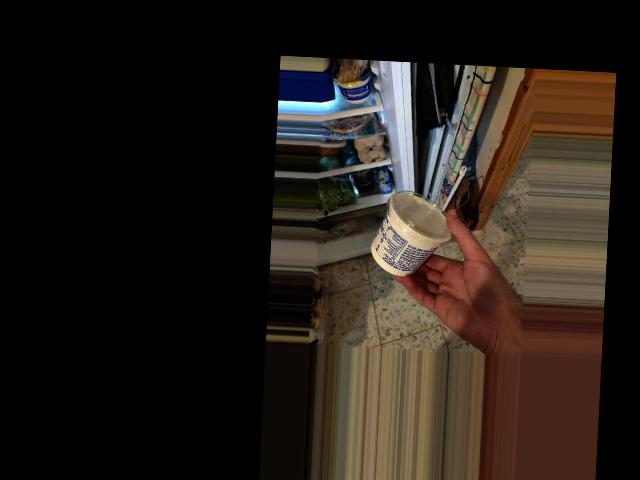cotage: (372, 189, 457, 271)
